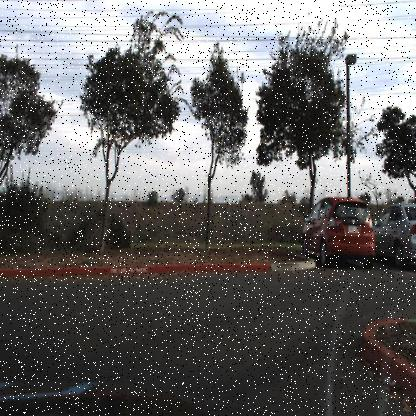car: (300, 194, 378, 268), (370, 200, 416, 270)
